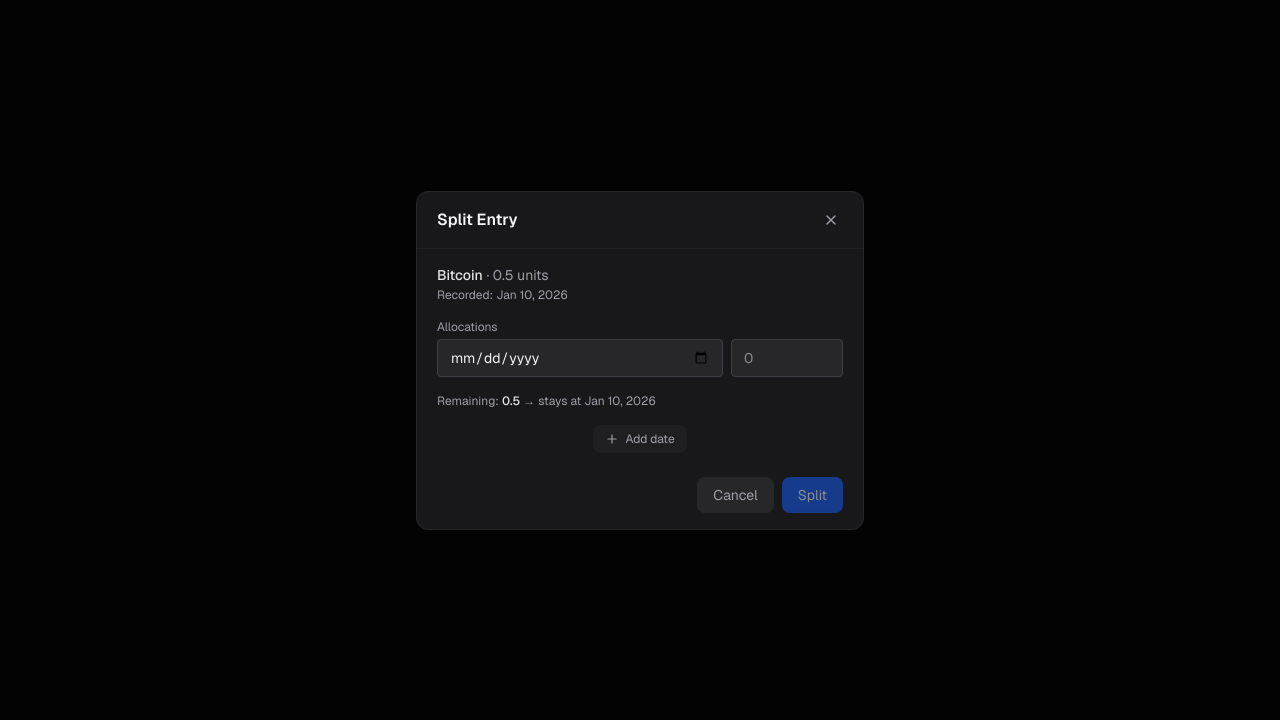
Test: SplitModal › add leg button creates new row
Click the button "Add date" at {"x": 640, "y": 438}, box [593, 424, 687, 452]
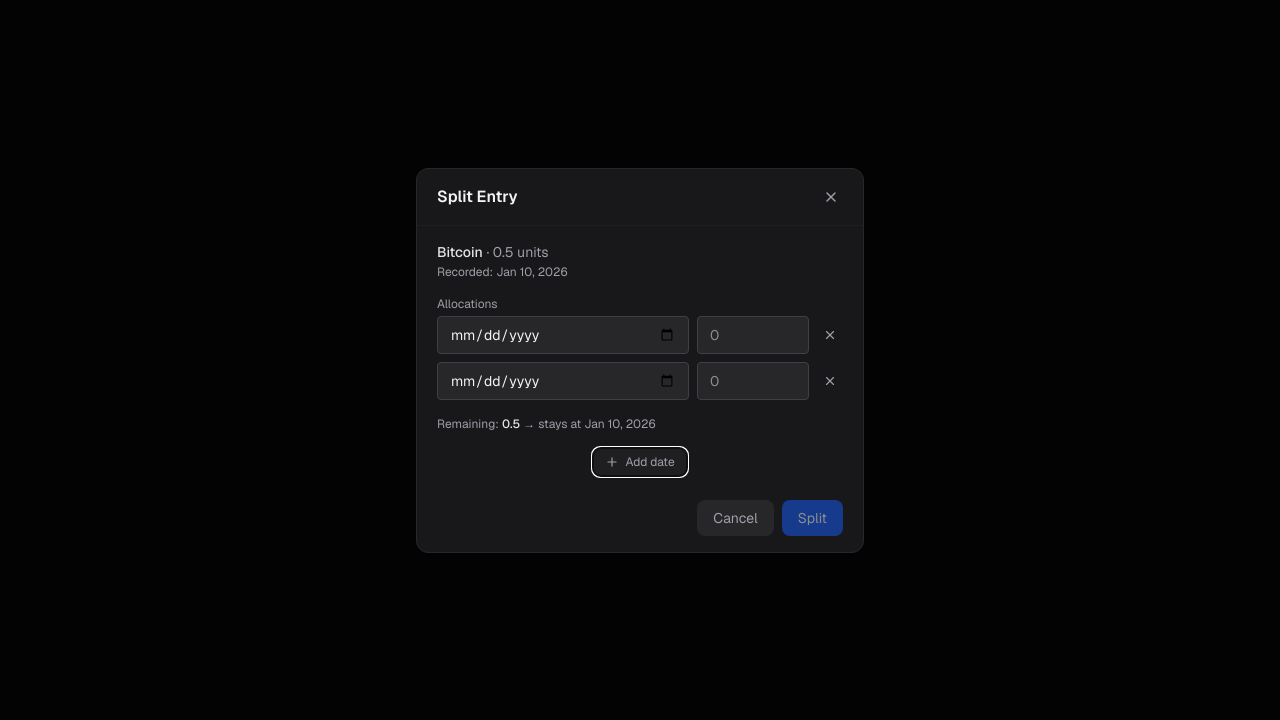
Expected: the date field named "Allocation 1 date" is shown, [437, 316, 689, 354]
Now the date field named "Allocation 2 date" is shown, box [437, 362, 689, 400]
Now the number field named "Allocation 2 quantity" is shown, box [697, 362, 809, 400]
